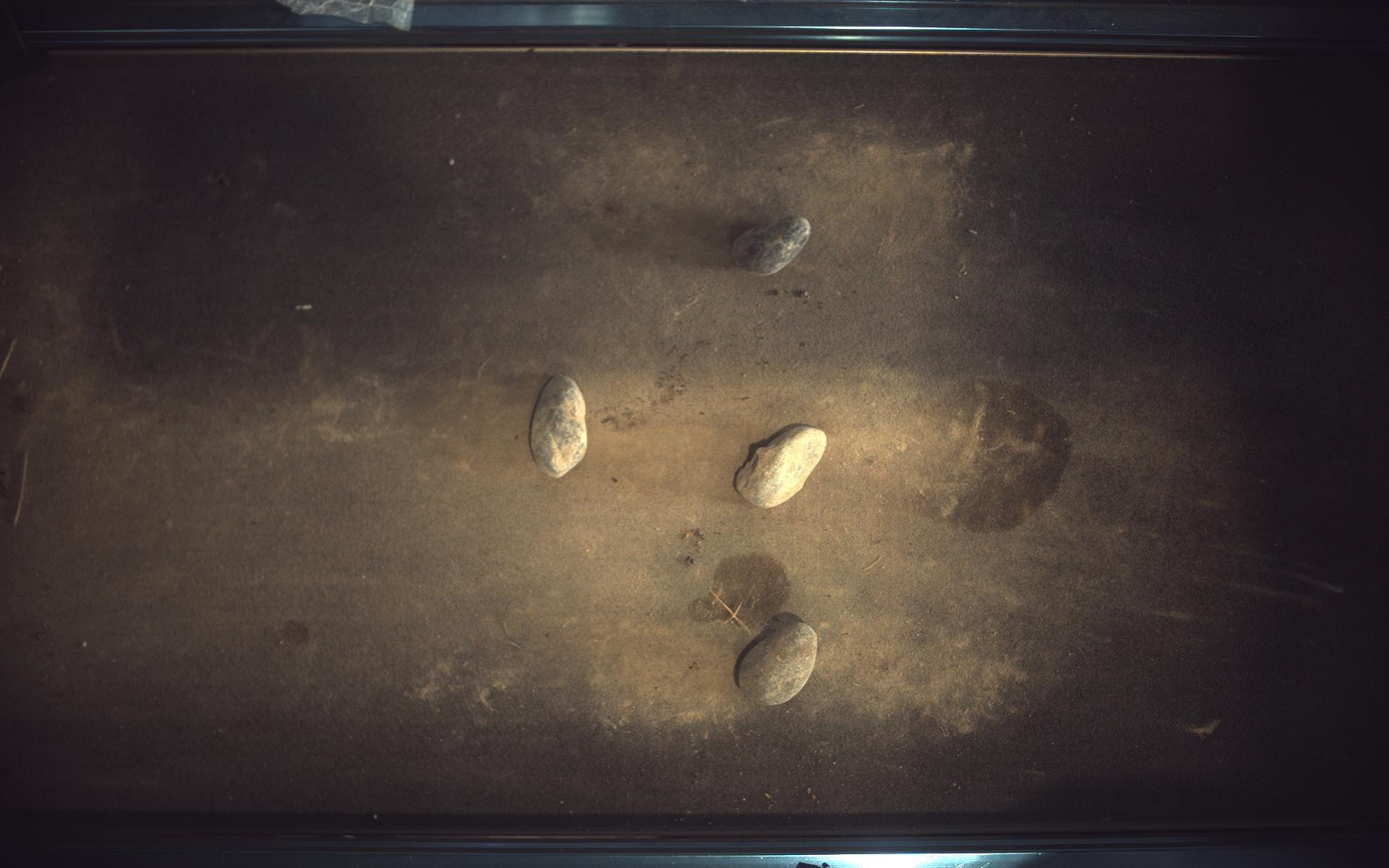stone: (736, 613, 819, 707), (736, 425, 828, 509), (530, 375, 588, 478), (733, 216, 812, 274)
